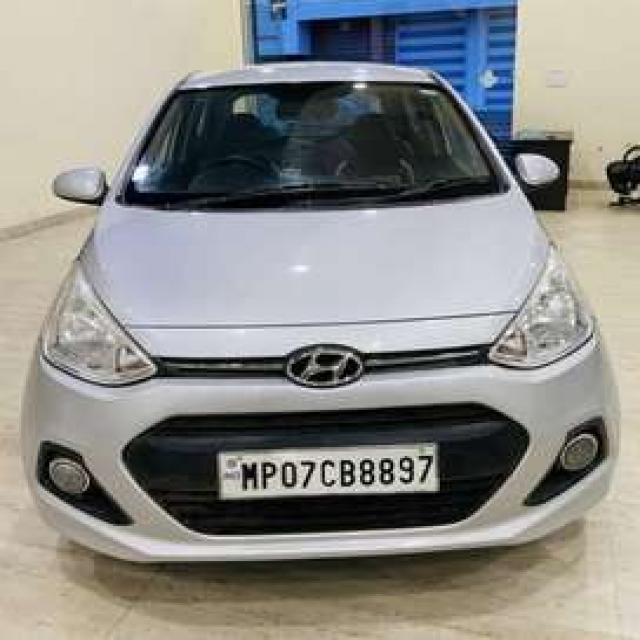Plate: (215, 440, 436, 499)
